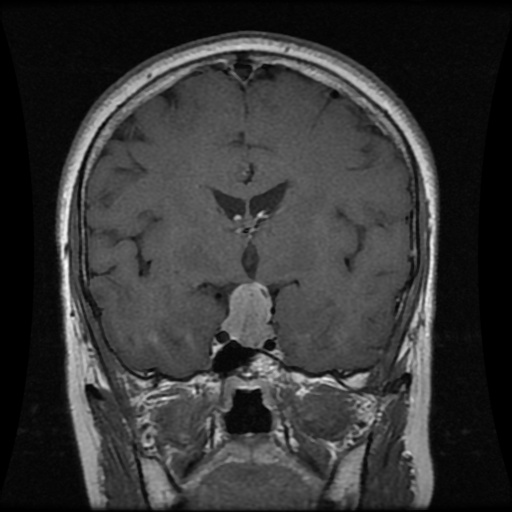pituitary: (220, 284, 275, 346)
